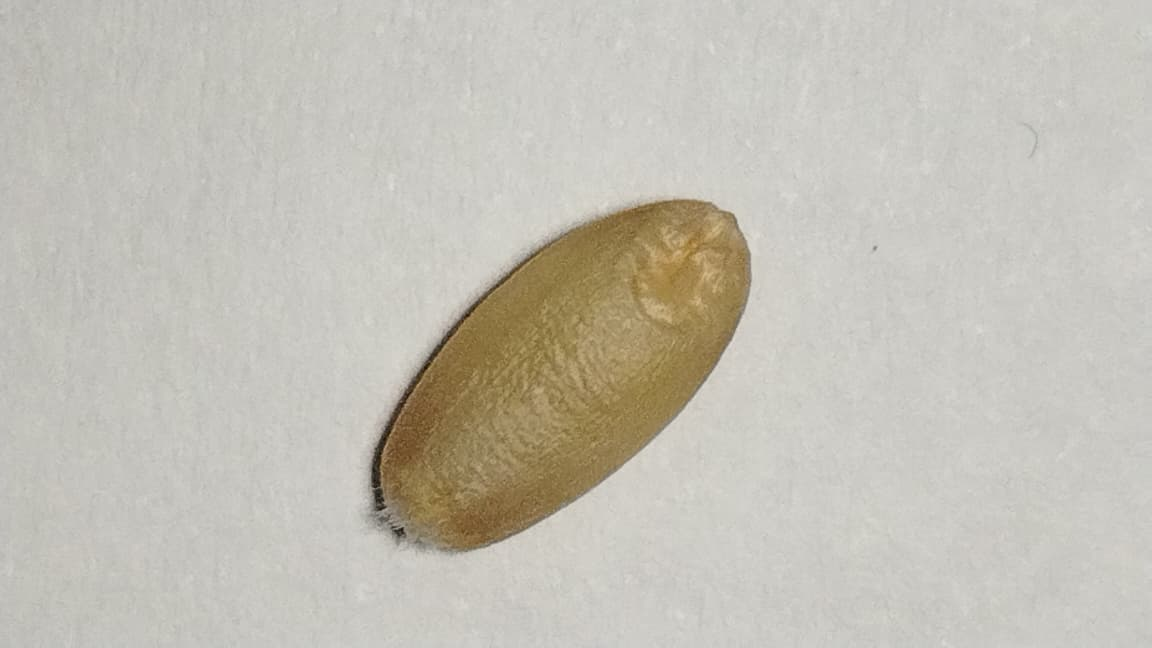healthy: (378, 202, 749, 548)
